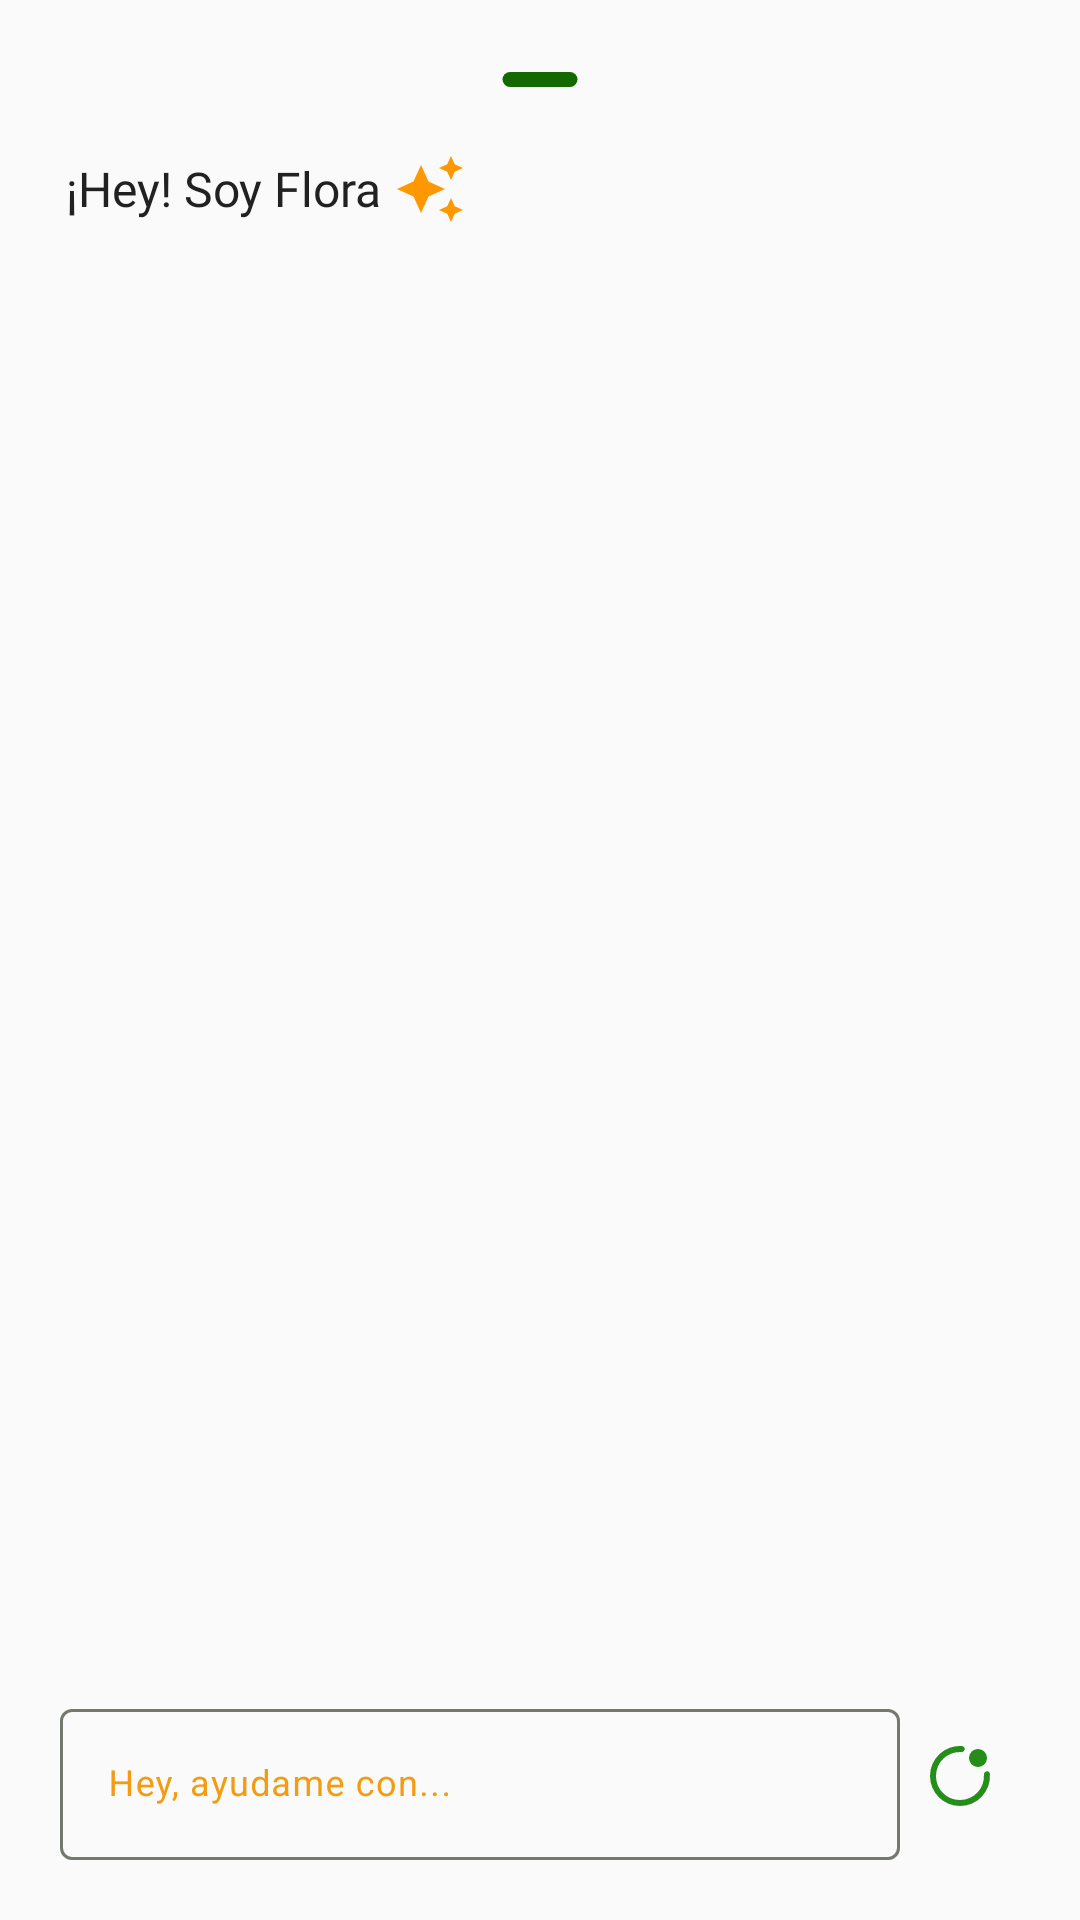

Locate icon controls on the screen. Image size 1080×1920, boxes as (x1, y1, x2, y2).
auto awesome: (397, 156, 463, 222)
